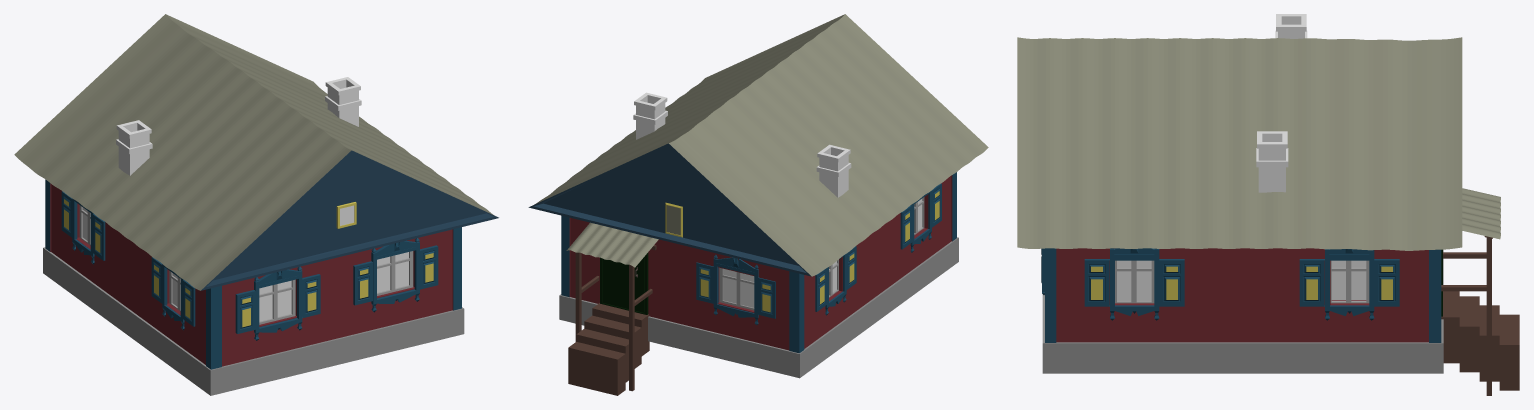
Rendered from Дом 3 квадратная крыша .fbx.
3 renders of one model, left to right at view 1: azimuth 30°, elevation 25°; view 2: azimuth 150°, elevation 25°; view 3: azimuth 270°, elevation 25°, orthographic. The views are drawn at different scales.
Parts seen in each view (by area): view 1: Куб.007; view 2: Куб.007; view 3: Куб.007.
Boxes of the visible parts, x1,y1,x2,y2 form: Куб.007: (14,14,498,395); Куб.007: (528,14,988,395); Куб.007: (1017,14,1519,395).
Bounding box in the file's own units: 302 × 249 × 367.
